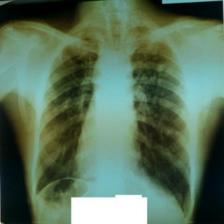tuberculosis: (29, 26, 196, 222)
